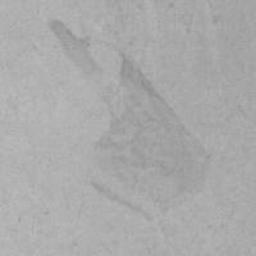Water spot: (47, 0, 214, 223)
